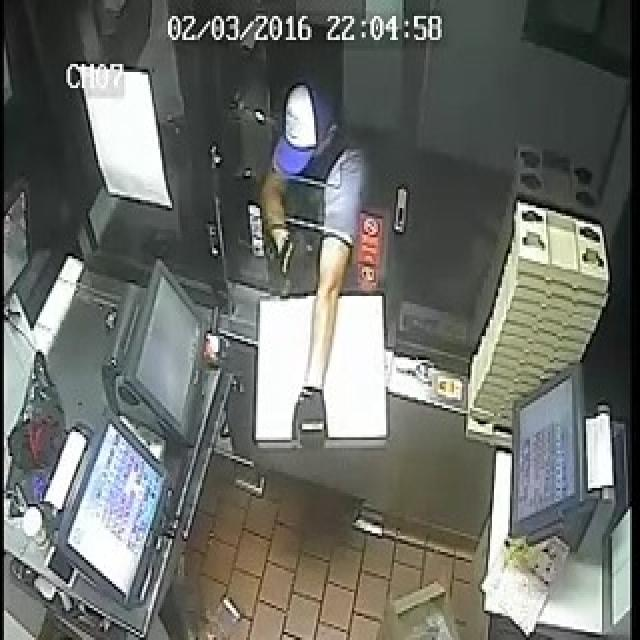thief: (280, 117, 367, 249)
